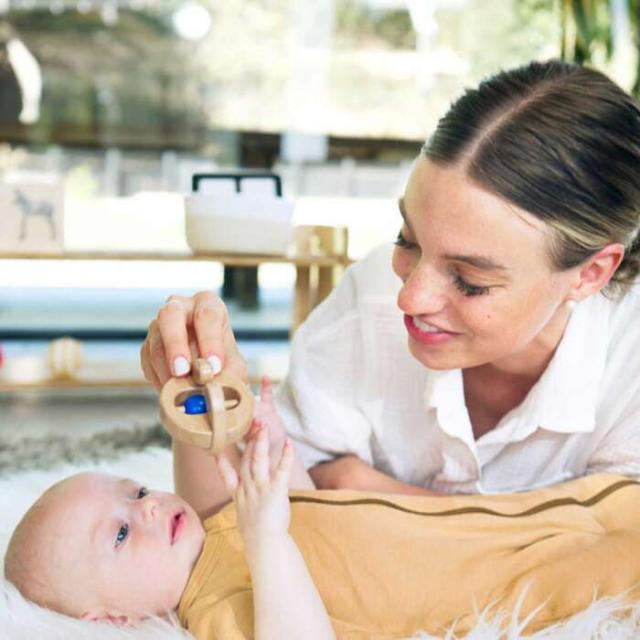non-dog: (139, 60, 640, 497), (4, 374, 640, 640)
